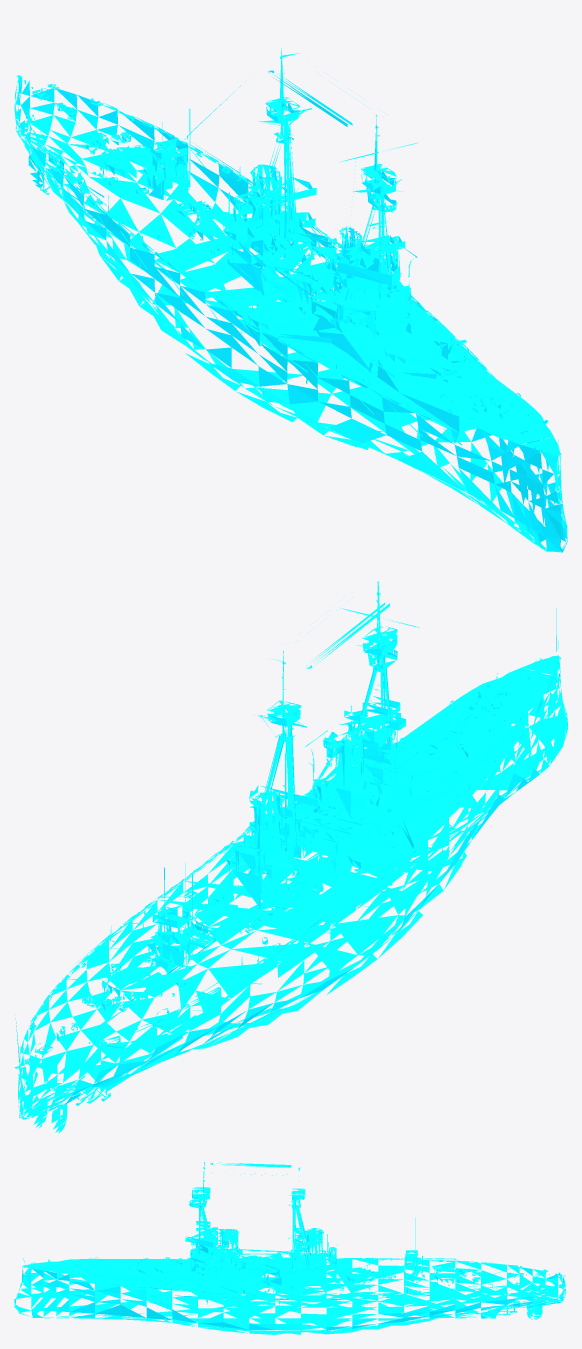
Rendered from Bellerophon.glb.
The picture shows the model from 3 angles, top to bottom: view 1: azimuth 30°, elevation 25°; view 2: azimuth 150°, elevation 25°; view 3: azimuth 270°, elevation 25°; orthographic projection. The views are drawn at different scales.
Bounding box in the file's own units: 1.74 × 3.33 × 10.71.
